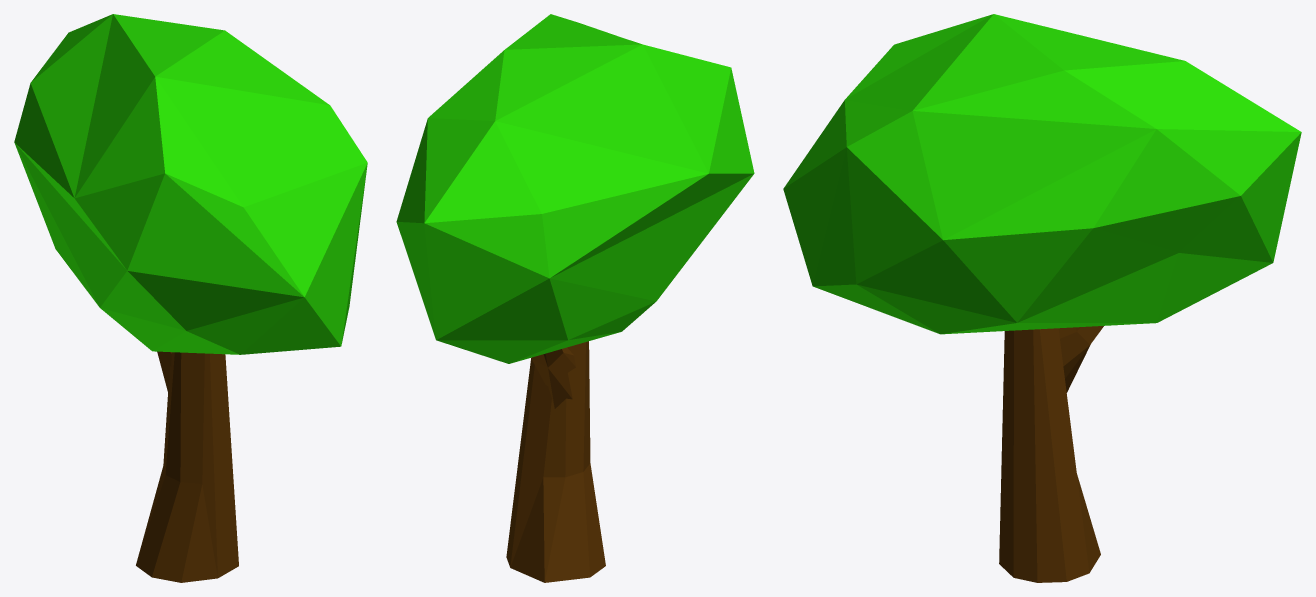
File: Bush#4.fbx
3 renders of one model, left to right at view 1: azimuth 30°, elevation 25°; view 2: azimuth 150°, elevation 25°; view 3: azimuth 270°, elevation 25°, orthographic.
Visible parts, largest first — view 1: Bush#4; view 2: Bush#4; view 3: Bush#4.
Boxes of the visible parts, x1,y1,x2,y2 form: Bush#4: [14, 14, 367, 582]; Bush#4: [396, 14, 754, 582]; Bush#4: [783, 14, 1301, 582].
Bounding box in the file's own units: 93 × 183 × 166.
